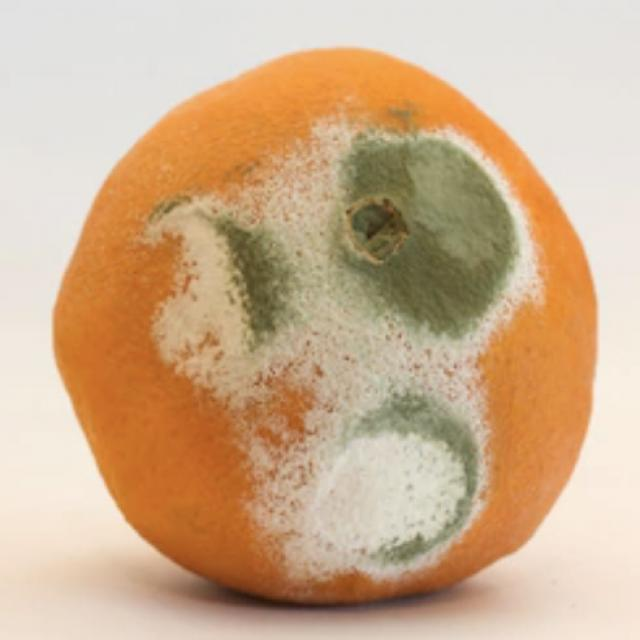rotten-orange: (49, 47, 599, 607)
